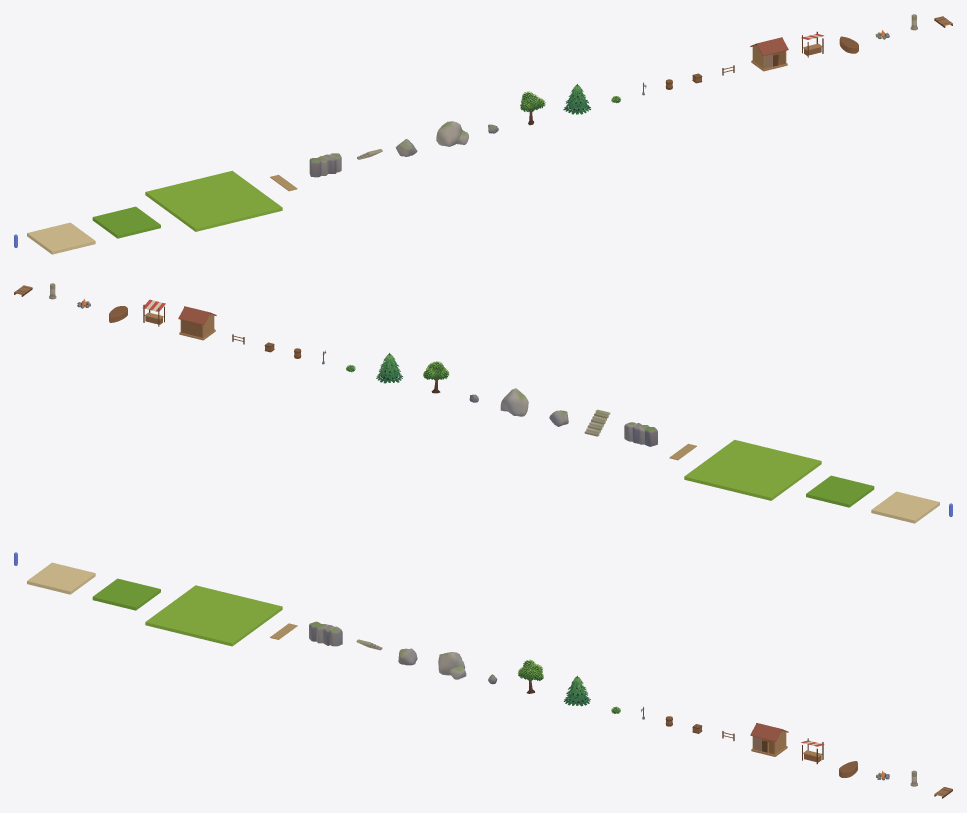
Rendered from island-kit.glb.
3 views of the same model, one above another, from view 1: azimuth 30°, elevation 25°; view 2: azimuth 150°, elevation 25°; view 3: azimuth 330°, elevation 25° (orthographic).
Parts seen in each view (by area): view 1: ground-grass-wide, ground-sand, ground-grass, shack, cliff, rock-large; view 2: ground-grass-wide, ground-grass, ground-sand, shack, cliff, rock-large; view 3: ground-grass-wide, ground-sand, ground-grass, shack, cliff, rock-large.
Boxes of the visible parts, x1,y1,x2,y2 form: ground-grass-wide: (145,170,282,231); ground-sand: (27,222,95,254); ground-grass: (92,206,160,238); shack: (750,37,788,71); cliff: (309,153,341,177); rock-large: (436,121,468,146); ground-grass-wide: (684,439,821,500); ground-grass: (806,475,874,507); ground-sand: (871,491,939,523); shack: (178,306,216,340); cliff: (624,422,657,446); rock-large: (500,388,528,416); ground-grass-wide: (145,585,282,646); ground-sand: (27,562,95,594); ground-grass: (92,578,160,610); shack: (750,723,788,756); cliff: (309,621,342,646); rock-large: (438,652,466,679).
Size of the model in its own units: 171 by 6.01 by 16.
Materials: 2 (1 with a texture image).
